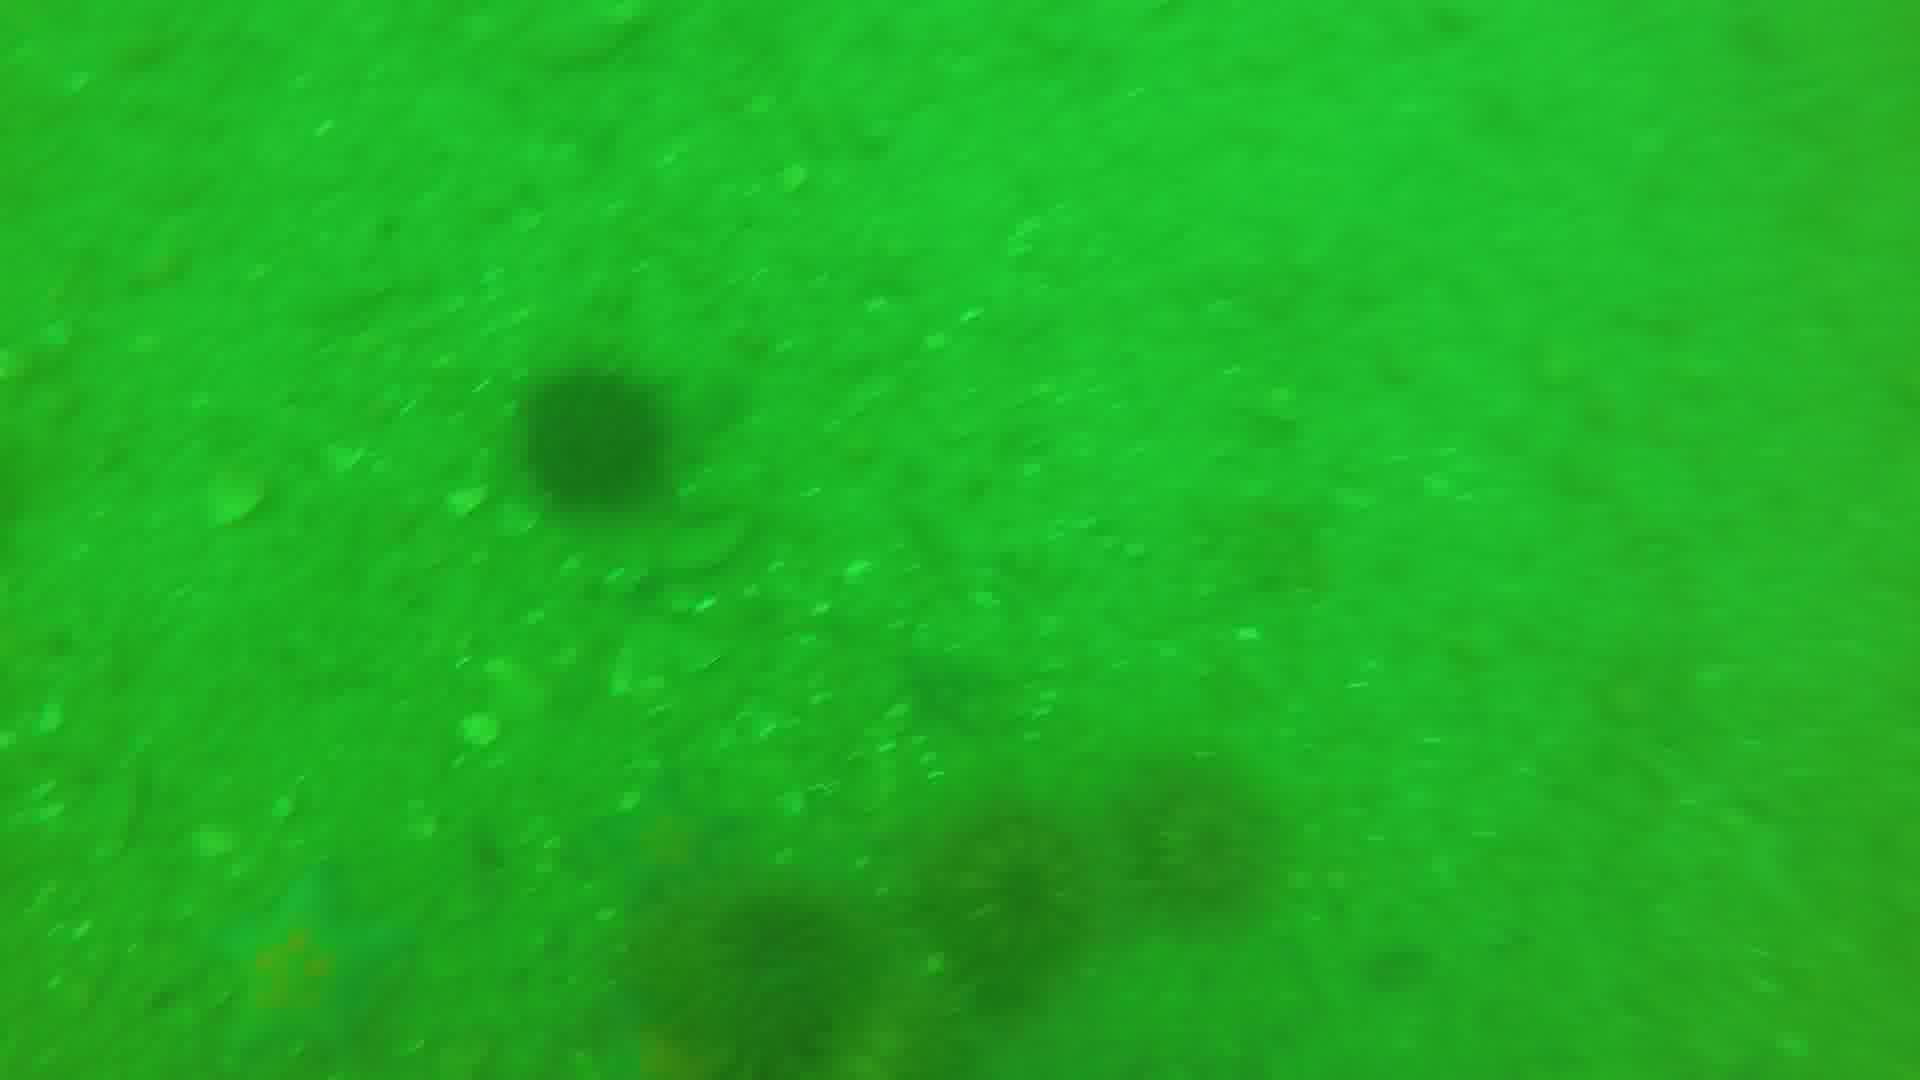echinus: (596, 877, 832, 1080), (924, 822, 1129, 996), (1142, 781, 1296, 952), (513, 367, 680, 524), (824, 967, 984, 1080)
starfish: (214, 870, 411, 1080), (613, 782, 740, 914)
